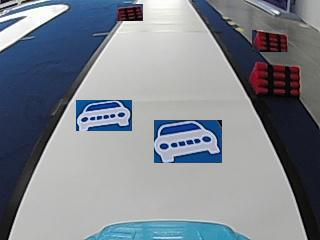bomb: (250, 63, 301, 95)
